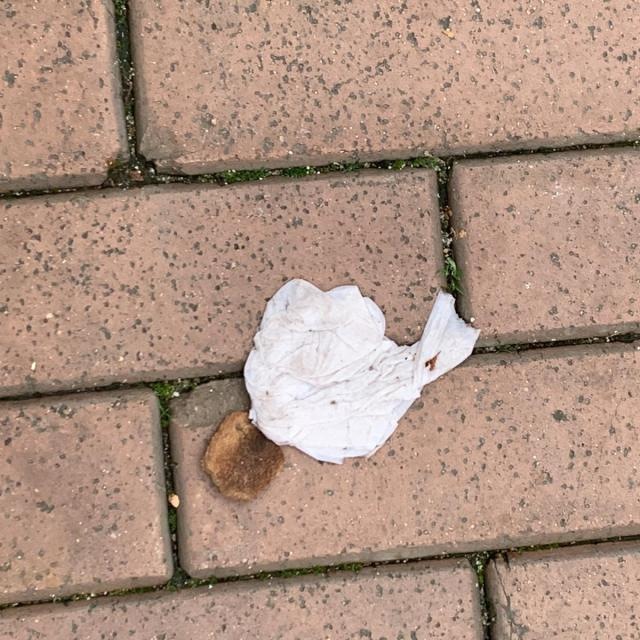Paper: (242, 274, 482, 465)
